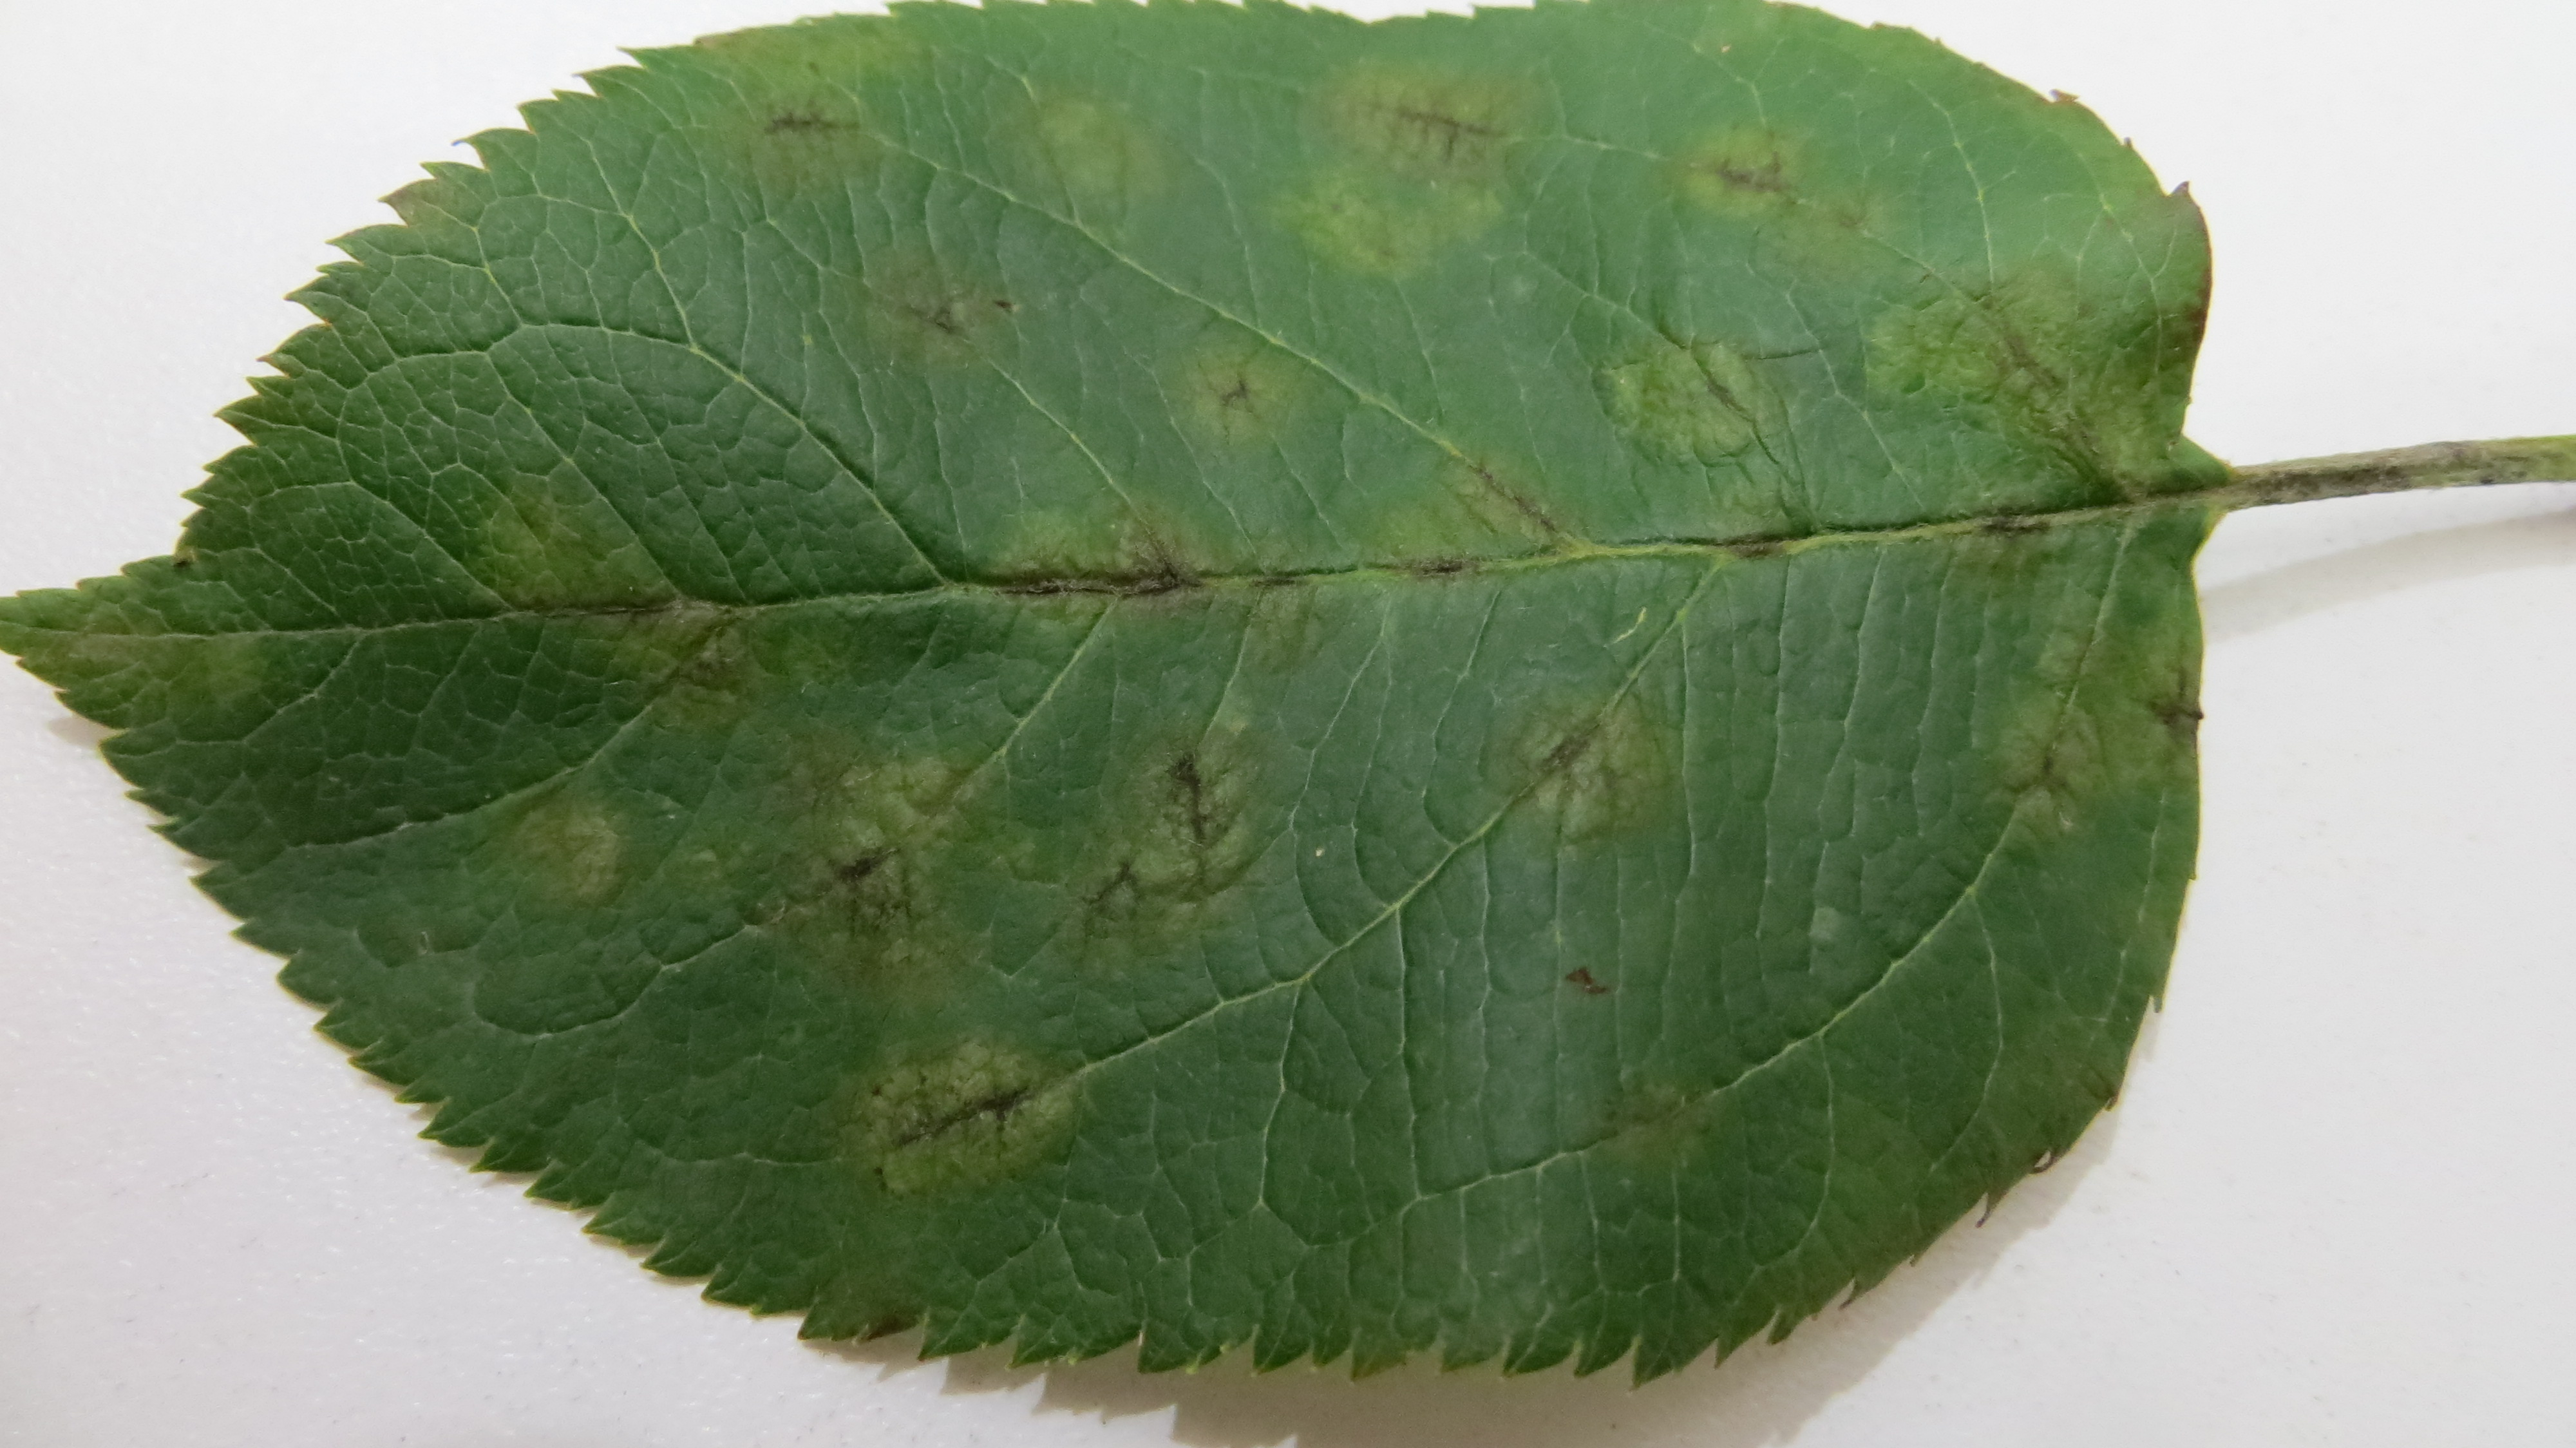sarna: (492, 508, 763, 719), (780, 738, 1001, 993), (1072, 719, 1269, 954), (1895, 274, 2121, 473), (839, 1032, 1095, 1190), (1339, 53, 1537, 212), (1506, 682, 1677, 839), (1016, 90, 1182, 250), (1601, 324, 1780, 469), (842, 223, 1008, 374), (1284, 165, 1483, 290), (1150, 313, 1302, 451), (727, 55, 869, 191), (490, 774, 623, 919), (1660, 117, 1828, 227), (1591, 1057, 1720, 1188), (1210, 536, 1332, 669), (1361, 506, 1497, 623), (1985, 706, 2095, 850), (993, 492, 1111, 623), (1789, 184, 1909, 296), (1100, 490, 1207, 616), (1923, 476, 2063, 568), (1693, 480, 1799, 579), (1456, 451, 1555, 547), (2114, 644, 2203, 751), (1552, 933, 1621, 1021)
